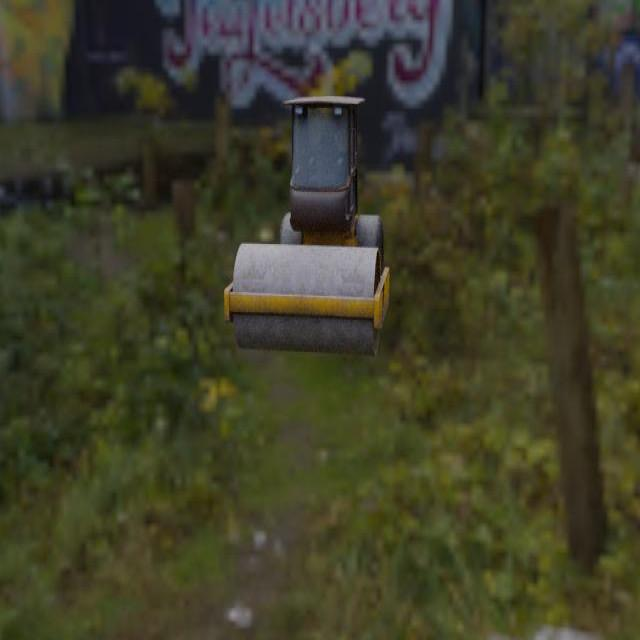Roller: (223, 95, 389, 356)
